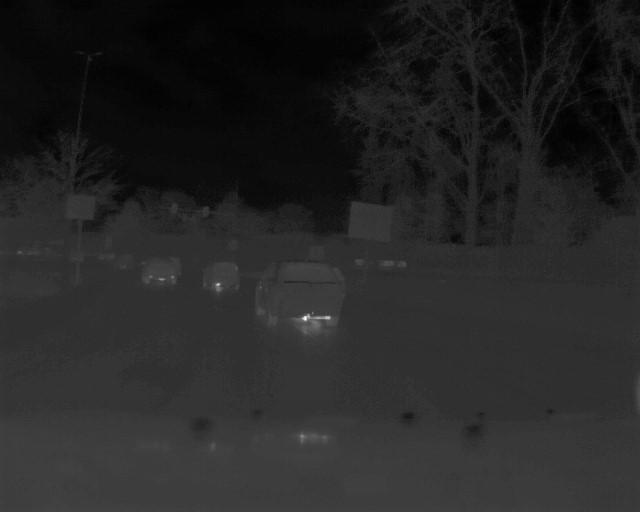car: (255, 259, 347, 332), (138, 254, 181, 288), (200, 261, 242, 291)
